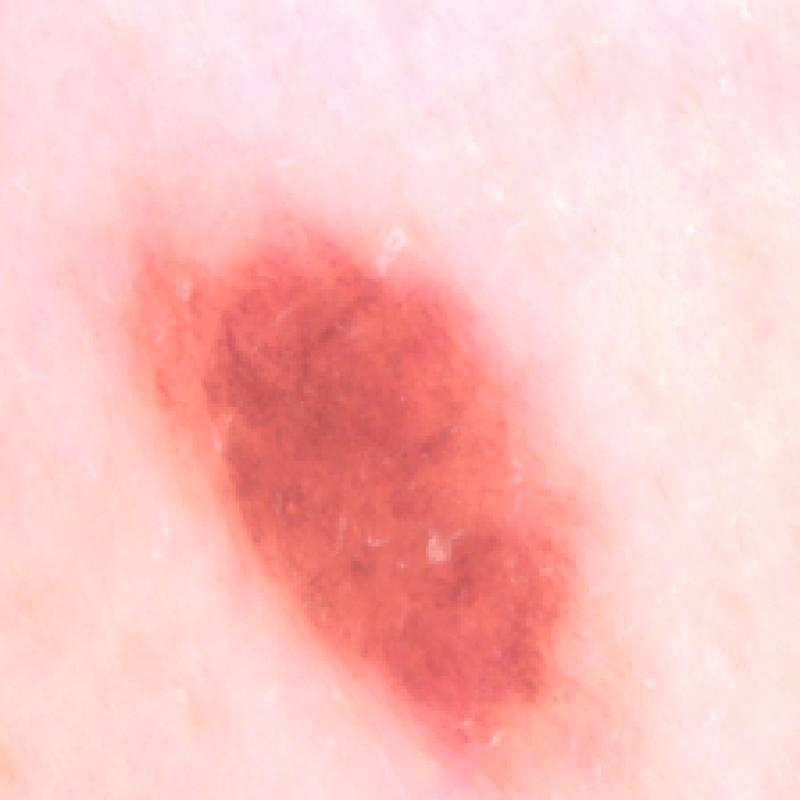benign: (112, 202, 659, 775)
